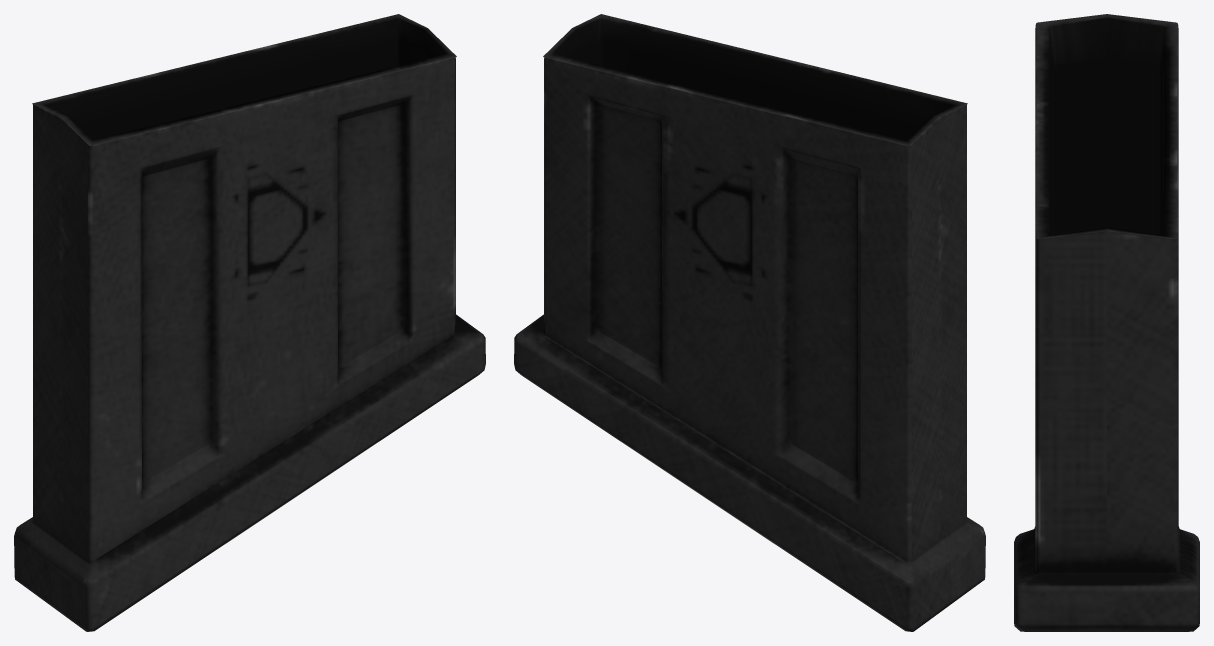
File: SM_Dallas_AT_Mag.fbx
3 views of the same model, side by side, from view 1: azimuth 30°, elevation 25°; view 2: azimuth 150°, elevation 25°; view 3: azimuth 270°, elevation 25° (orthographic). The views are drawn at different scales.
Parts seen in each view (by area): view 1: AT_Mag; view 2: AT_Mag; view 3: AT_Mag.
Boxes of the visible parts, x1=… form: AT_Mag: x1=14, y1=14, x2=485, y2=631; AT_Mag: x1=514, y1=14, x2=985, y2=631; AT_Mag: x1=1014, y1=14, x2=1199, y2=631.
Size of the model in its own units: 12.42 by 4.13 by 14.48.
1 material, 1 textured.
